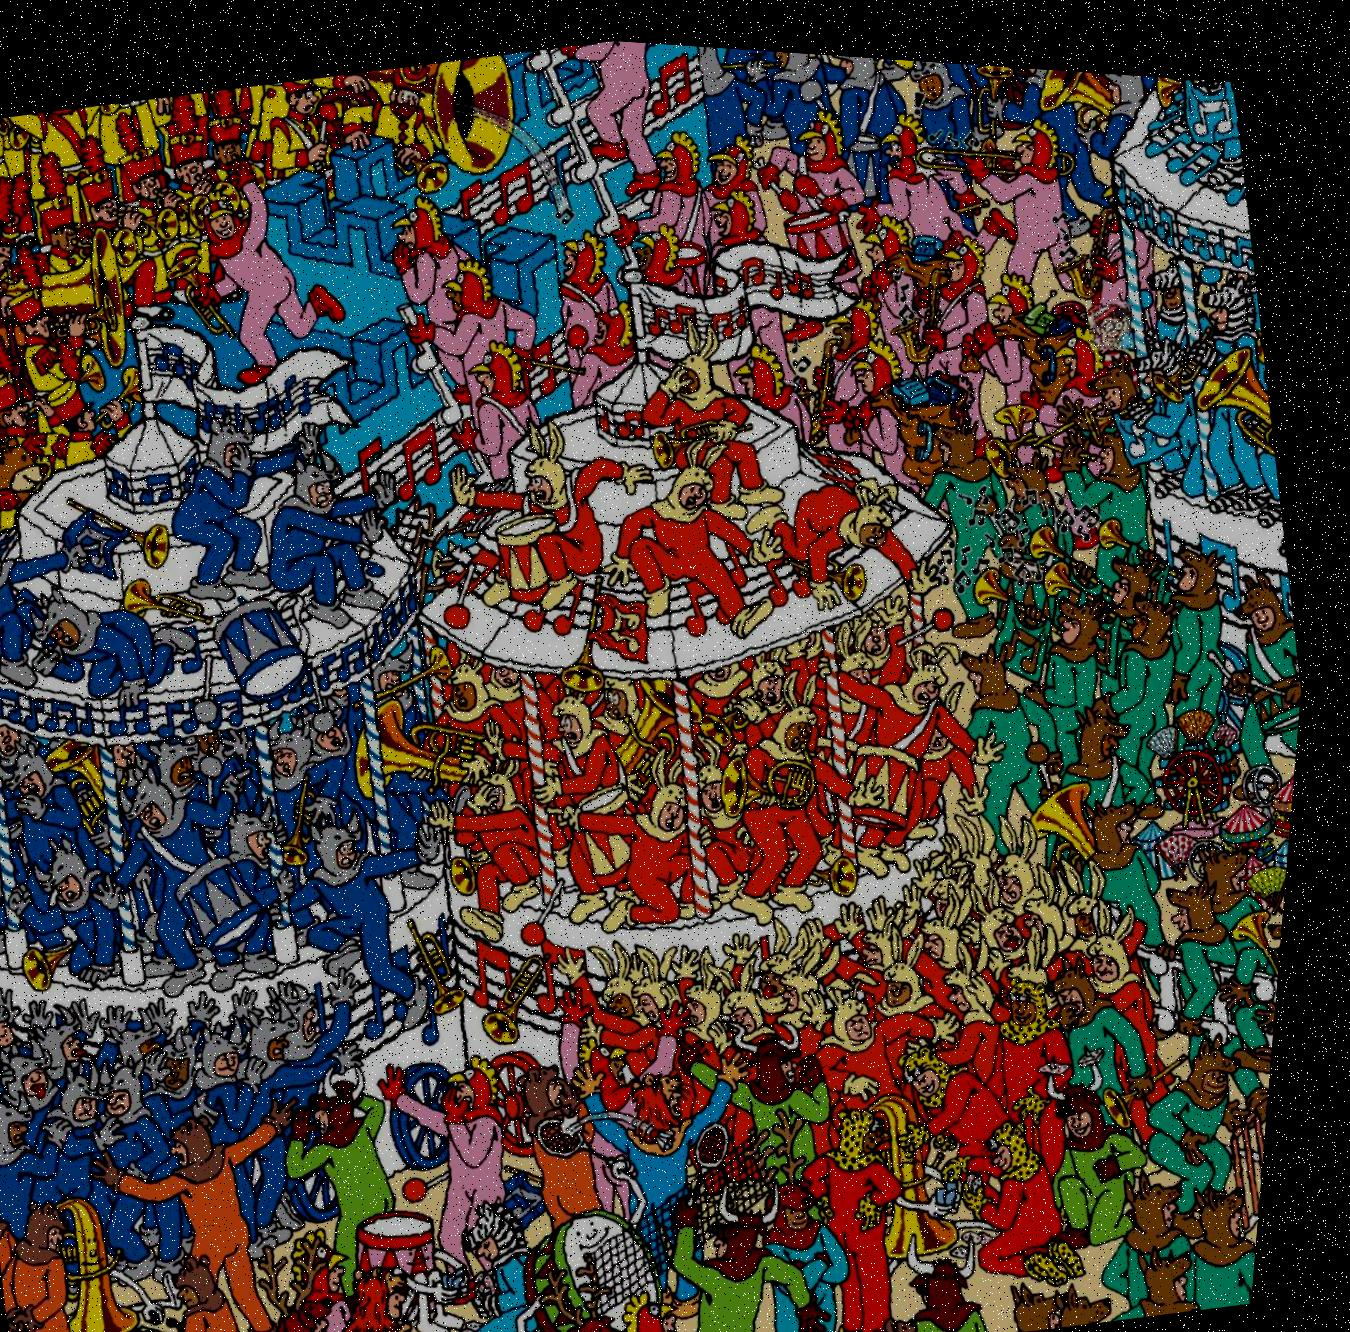waldo: (1088, 282, 1141, 338)
